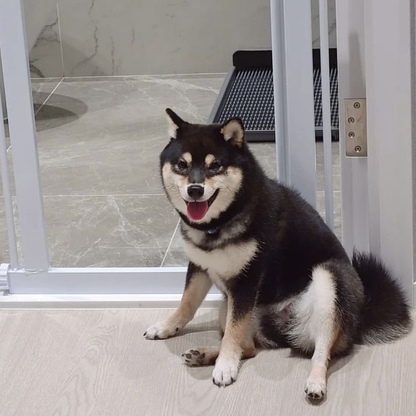shiba: (136, 100, 416, 406)
